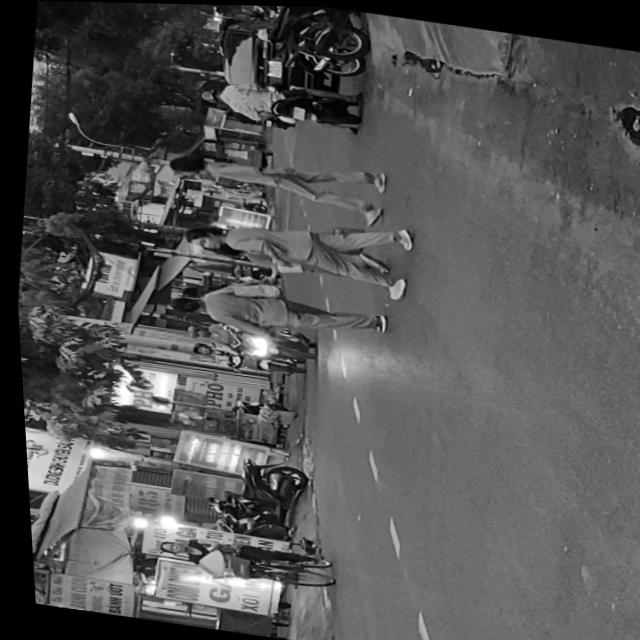helmet: (197, 86, 221, 102)
licenseplate: (194, 68, 364, 135)
nohelmet: (290, 104, 304, 118)
